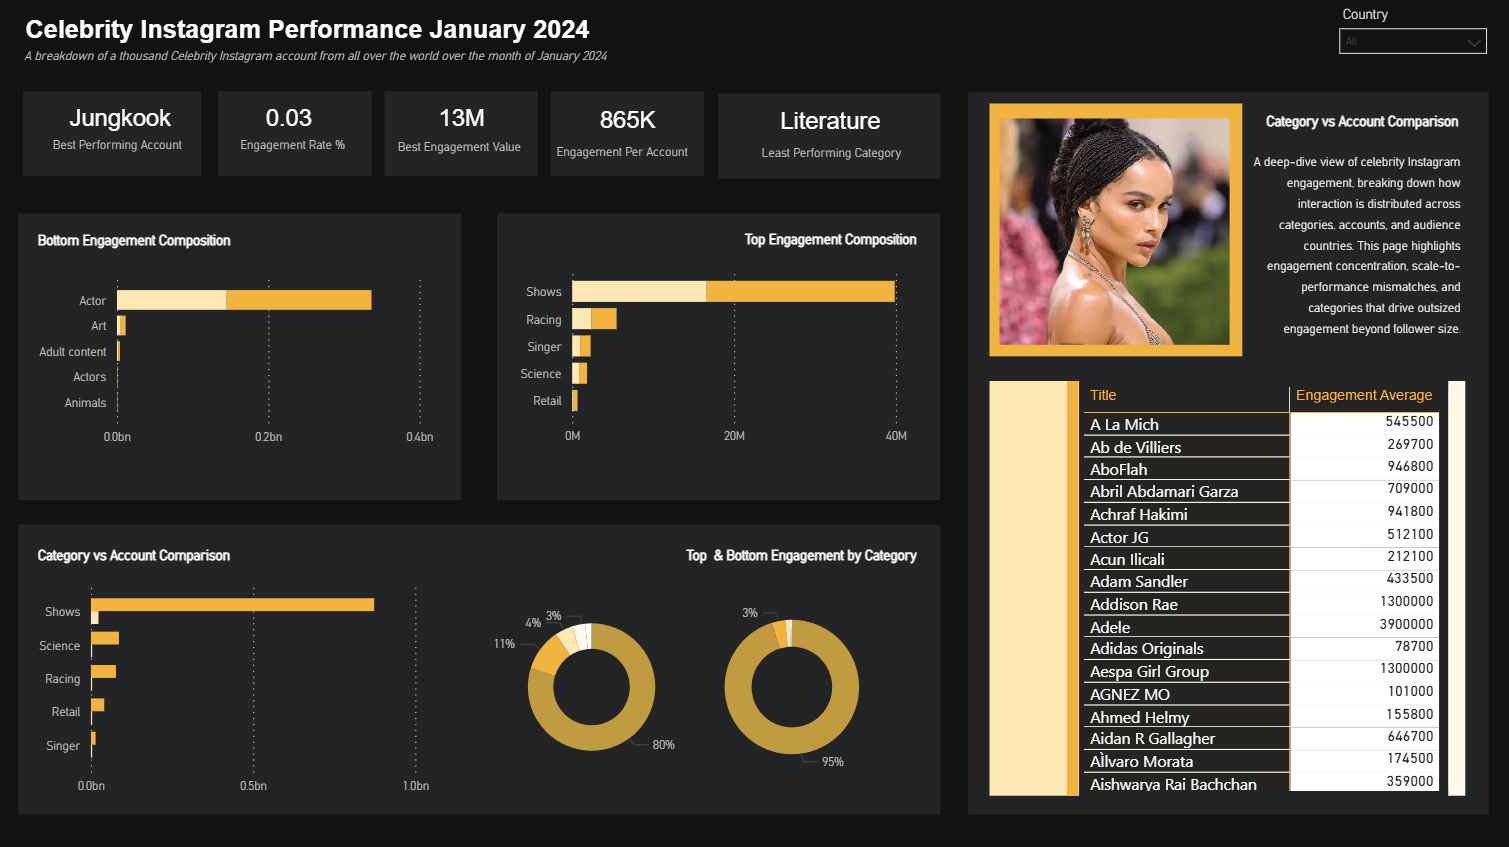

The page's visual inventory and layout, read from the dashboard file:
{"tool":"powerbi","page":{"name":"Celebrity Dashboard-Page 2","canvas":[1280,720],"ordinal":1},"visuals":[{"type":"image","box":[0,0,1280,720.7],"z":0},{"type":"slicer","fields":{"Values":["Instagram-Data.AudienceCountry"]},"box":[1123.9,20.4,145.3,37.2],"z":1000},{"type":"shape","box":[22.3,80.7,150.3,72.3],"z":2000},{"type":"card","fields":{"Values":["Instagram-Data.Best Performing Account"]},"box":[54,80.5,100.9,48],"z":3000},{"type":"textbox","box":[19.5,11.1,513.4,37.6],"z":4000},{"type":"textbox","box":[41.7,115.5,125.2,37.6],"z":5000},{"type":"shape","box":[186.4,80.7,129.4,72.3],"z":6000},{"type":"textbox","box":[200.3,115.5,104.3,29.2],"z":7000},{"type":"card","fields":{"Values":["Instagram-Data.Engagement Rate %"]},"box":[215.7,86.3,62.6,34.8],"z":8000},{"type":"shape","box":[327,80.7,129.4,72.3],"z":9000},{"type":"textbox","box":[1132.3,0,50.4,30],"z":10000},{"type":"textbox","box":[333.9,114.1,115.5,27.8],"z":11000},{"type":"card","fields":{"Values":["Instagram-Data.Best Engagement Value"]},"box":[349.2,80.7,86.3,47.3],"z":12000},{"type":"shape","box":[467.5,80.7,129.4,72.3],"z":13000},{"type":"card","fields":{"Values":["Instagram-Data.Avg Engagement per Account"]},"box":[473,86.3,119.7,39],"z":14000},{"type":"textbox","box":[467.5,118.3,129.4,25],"z":15000},{"type":"shape","box":[609.4,82.1,187.8,72.3],"z":16000},{"type":"card","fields":{"Values":["Instagram-Data.Least Performing Category"]},"box":[634.4,91.8,139.1,29.2],"z":17000},{"type":"textbox","box":[641.4,116.9,132.2,34.8],"z":18000},{"type":"textbox","box":[18.1,34.8,616.3,57],"z":19000},{"type":"shape","box":[18.1,183.7,374.3,242.1],"z":20000},{"type":"shape","box":[423,183.7,374.3,242.1],"z":21000},{"type":"textbox","box":[30,457.5,254.6,27.6],"z":22000},{"type":"textbox","box":[432.7,190.6,349.2,27.8],"z":23000},{"type":"shape","box":[820.9,81,439.7,610.5],"z":24000},{"type":"shape","box":[18.1,446.6,779.1,244.9],"z":25000},{"type":"textbox","box":[30,190.9,254.6,27.6],"z":26000},{"type":"textbox","box":[542.6,457.7,239.3,27.8],"z":27000},{"type":"shape","box":[838.1,91.3,213.7,213.7],"z":28000},{"type":"textbox","box":[1051.9,124.9,189.7,178.9],"z":29000},{"type":"pivotTable","fields":{"Rows":["Instagram-Data.Category","Instagram-Data.Title"],"Values":["Instagram-Data.Engagement Avg (Measure)"]},"box":[913.8,325.4,326.6,350.6],"z":30000},{"type":"shape","box":[1226,325.4,14.4,350.6],"z":31000},{"type":"shape","box":[838.1,325.4,75.6,350.6],"z":32000},{"type":"barChart","title":"Top Engagement Composition","fields":{"Category":["Instagram-Data.Category"],"Y":["Instagram-Data.Total Authentic Engagement","Instagram-Data.Total Engagement Avg"]},"box":[435.9,218.5,337.4,168.1],"z":33000},{"type":"clusteredBarChart","title":"Category vs Account Comparison","fields":{"Category":["Instagram-Data.Category"],"Y":["Instagram-Data.Total Followers","Instagram-Data.Total Engagement Avg"]},"box":[30,485.1,341,196.9],"z":34000},{"type":"barChart","title":"Bottom Engagement Composition","fields":{"Category":["Instagram-Data.Category"],"Y":["Instagram-Data.Total Authentic Engagement","Instagram-Data.Total Engagement Avg"]},"box":[30,226.9,344.6,159.7],"z":35000},{"type":"textbox","box":[30,457.5,254.6,27.6],"z":36000},{"type":"donutChart","title":"Top 5 Engagement by Category","fields":{"Category":["Instagram-Data.Category"],"Y":["Instagram-Data.Engagement Avg (Measure)"]},"box":[411.9,495.9,181.3,175.3],"z":37000},{"type":"donutChart","title":"Bottom 5 Engagement by Category","fields":{"Category":["Instagram-Data.Category"],"Y":["Instagram-Data.Engagement Avg (Measure)"]},"box":[570.4,495.9,202.9,175.3],"z":38000},{"type":"textbox","box":[985.8,91.3,254.6,27.6],"z":39000},{"type":"shape","box":[904.2,325.4,9.6,350.6],"z":40000},{"type":"image","box":[846.5,103.3,194.5,190.9],"z":40001}]}

Visuals, with their boxes in screenshot pixels (x1, y1, x2, y2), scaled from the page's 1280x720 canvas onto the 1509x847 screenshot:
image: 0:0:1508:846
slicer - Instagram-Data.AudienceCountry: 1325:24:1496:68
shape: 26:95:203:180
card - Instagram-Data.Best Performing Account: 64:95:183:151
textbox: 23:13:628:57
textbox: 49:136:197:180
shape: 220:95:372:180
textbox: 236:136:359:170
card - Instagram-Data.Engagement Rate %: 254:102:328:142
shape: 386:95:538:180
textbox: 1335:0:1394:35
textbox: 394:134:530:167
card - Instagram-Data.Best Engagement Value: 412:95:513:151
shape: 551:95:704:180
card - Instagram-Data.Avg Engagement per Account: 558:102:699:147
textbox: 551:139:704:169
shape: 718:97:940:182
card - Instagram-Data.Least Performing Category: 748:108:912:142
textbox: 756:138:912:178
textbox: 21:41:748:108
shape: 21:216:463:501
shape: 499:216:940:501
textbox: 35:538:336:571
textbox: 510:224:922:257
shape: 968:95:1486:813
shape: 21:525:940:813
textbox: 35:225:336:257
textbox: 640:538:922:571
shape: 988:107:1240:359
textbox: 1240:147:1464:357
pivotTable - Instagram-Data.Category x Instagram-Data.Title: 1077:383:1462:795
shape: 1445:383:1462:795
shape: 988:383:1077:795
"Top Engagement Composition" barChart: 514:257:912:455
"Category vs Account Comparison" clusteredBarChart: 35:571:437:802
"Bottom Engagement Composition" barChart: 35:267:442:455
textbox: 35:538:336:571
"Top 5 Engagement by Category" donutChart: 486:583:699:790
"Bottom 5 Engagement by Category" donutChart: 672:583:912:790
textbox: 1162:107:1462:140
shape: 1066:383:1077:795
image: 998:122:1227:346
